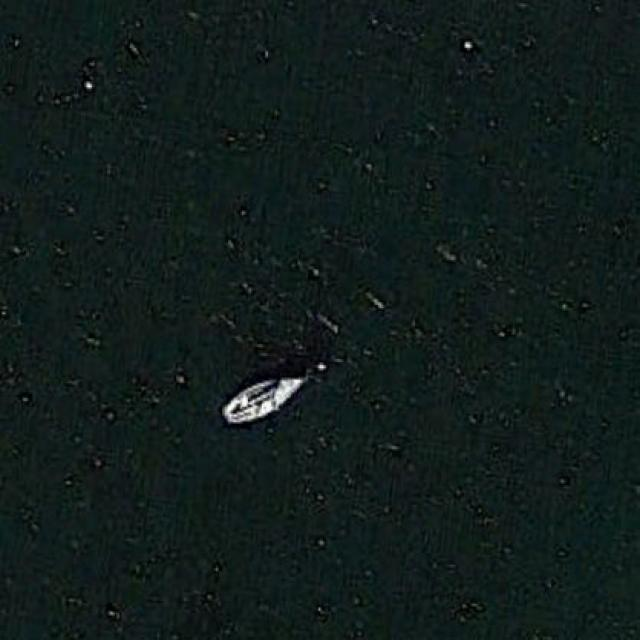boat: (220, 369, 314, 424)
